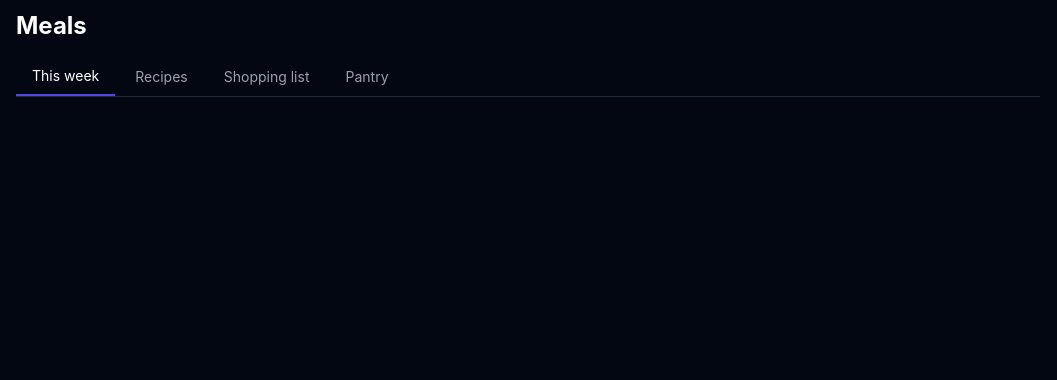
Test: MealsPage › Pantry › flags what is low, expiring or expired and restocks it
This screenshot has width=1057, height=380.
Step 1. Click the tab "Pantry" → (367, 77), box [330,58,404,96]
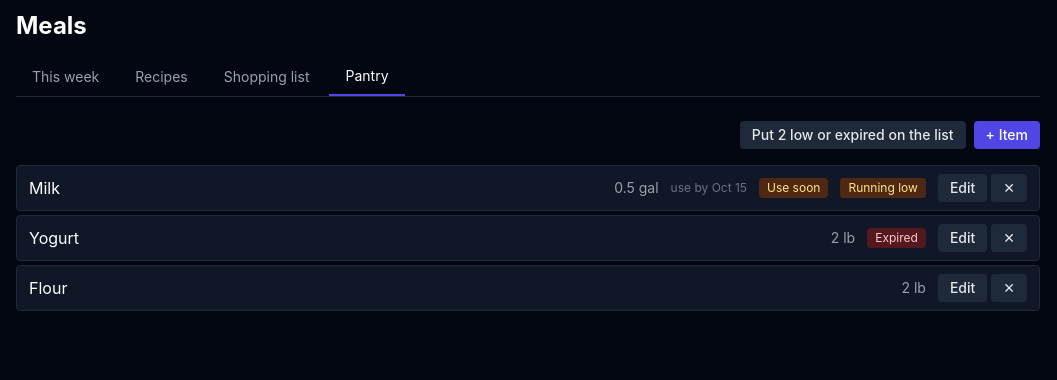
Expected: the text "Running low" is shown, [840,178,926,198]
Expected: the text "Use soon" is shown, [759,178,828,198]
Expected: the text "Expired" is shown, [867,228,926,248]
Step 2. Click the button "Put 2 low or expired on the list" → (853, 135), box [740,121,966,149]
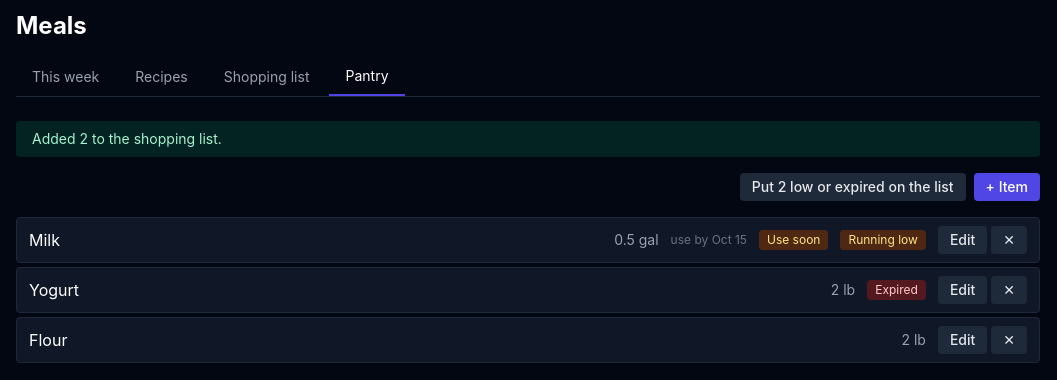
Expected: the text "Added 2 to the shopping list." is shown, [16,121,1040,157]
